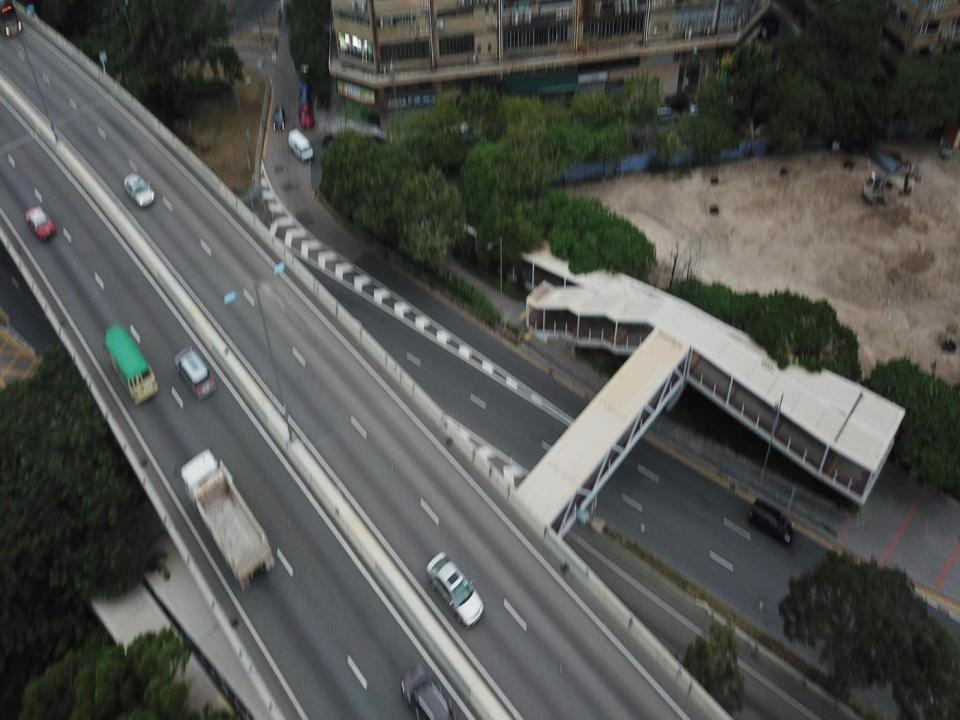bus: (101, 320, 158, 406)
car: (425, 550, 484, 628), (399, 661, 458, 719), (748, 494, 793, 546), (174, 345, 214, 400), (121, 171, 157, 209), (23, 204, 56, 244), (298, 99, 316, 128), (271, 102, 288, 130)
truck: (181, 445, 277, 589)
van: (288, 128, 313, 164)
